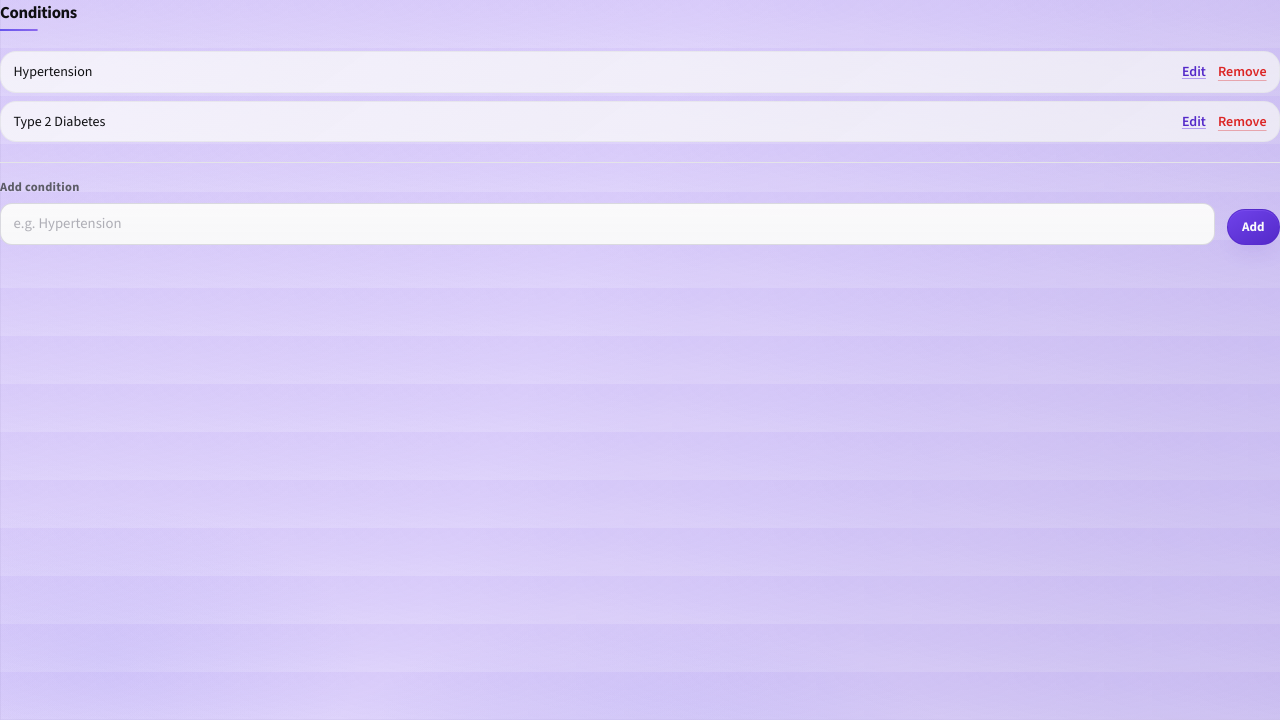
Scenario: ConditionsTab › Edit button shows inline form pre-populated with current label
expect the text "Hypertension" is shown: met, box x1=14 y1=62 x2=92 y2=81
Click the button "Edit" in the row of "Hypertension". click: [1194, 72]
box: x1=1182 y1=62 x2=1206 y2=82
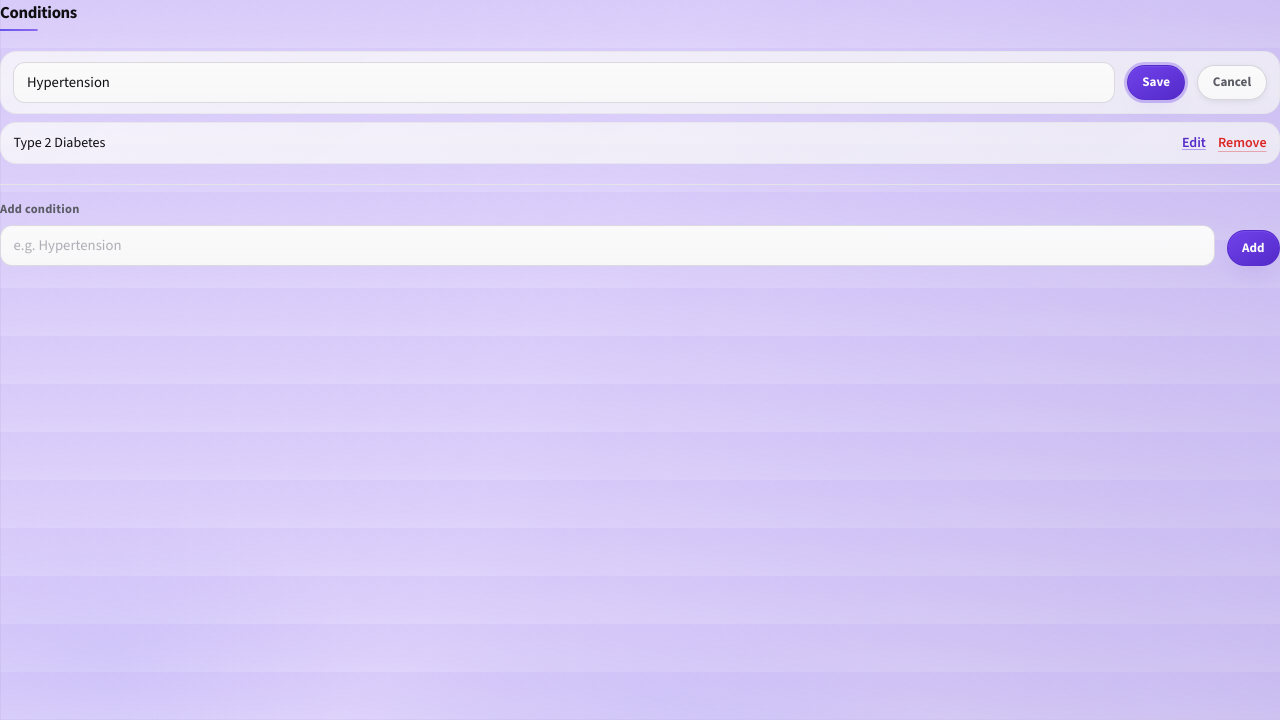
expect the field showing "Hypertension" is shown: met, box x1=14 y1=62 x2=1115 y2=103
